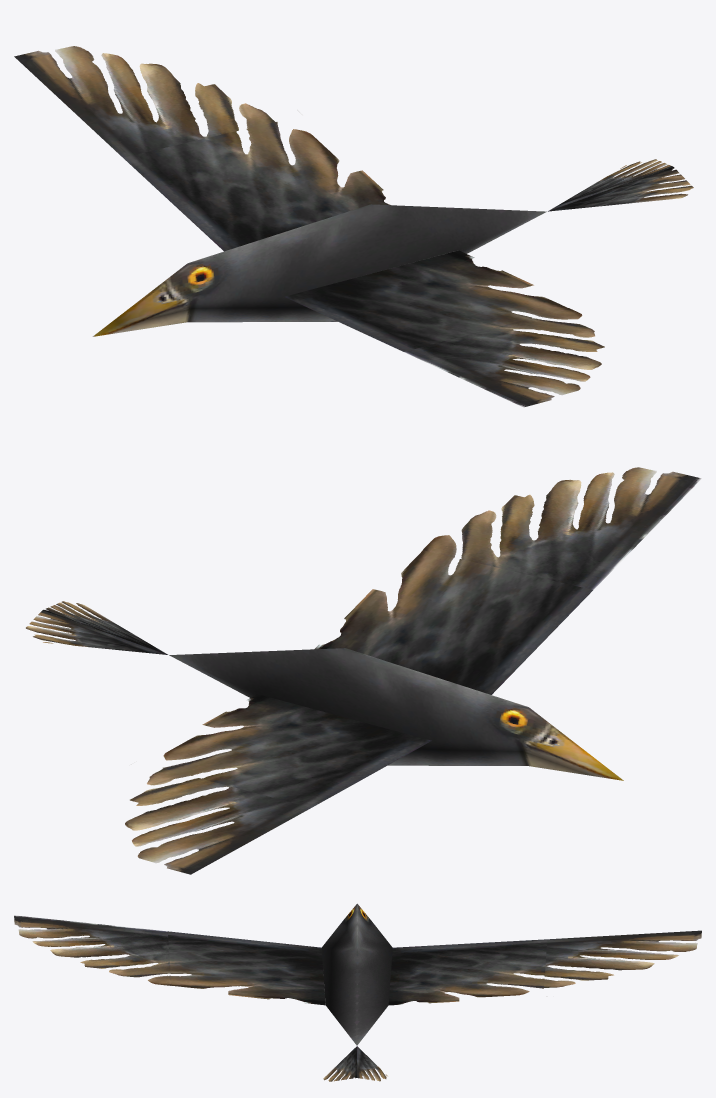
The model's file is bird02.obj.
The picture shows the model from 3 angles, top to bottom: view 1: azimuth 30°, elevation 25°; view 2: azimuth 150°, elevation 25°; view 3: azimuth 270°, elevation 25°; orthographic projection. The views are drawn at different scales.
Visible parts, largest first — view 1: bird02; view 2: bird02; view 3: bird02.
Part boxes in pixels (bbox=[...]): bird02: bbox=[14, 46, 693, 407]; bird02: bbox=[26, 467, 701, 874]; bird02: bbox=[14, 903, 701, 1081].
Size of the model in its own units: 1.16 by 0.2258 by 1.76.
1 material, 1 textured.
